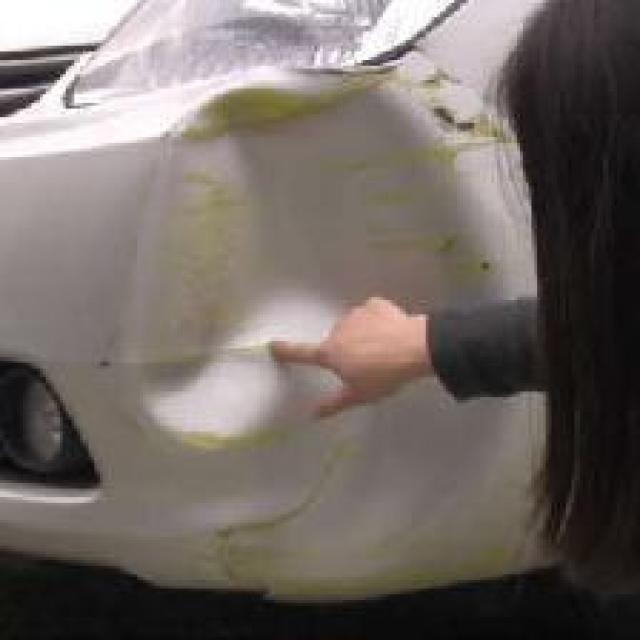damaged: (117, 82, 523, 588)
